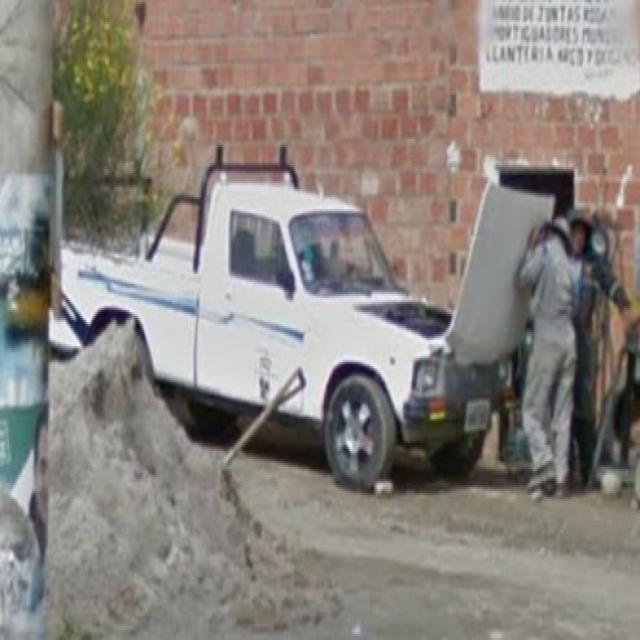Car: (57, 161, 461, 453)
